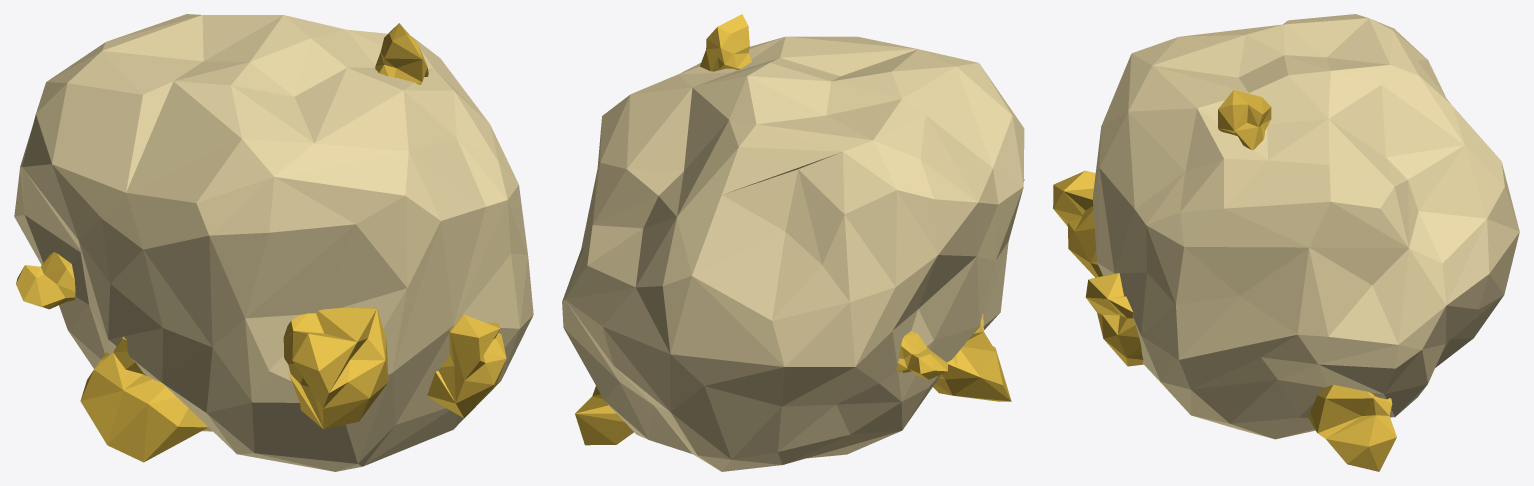
Rendered from MetalOre (55).fbx.
3 views of the same model, side by side, from view 1: azimuth 30°, elevation 25°; view 2: azimuth 150°, elevation 25°; view 3: azimuth 270°, elevation 25° (orthographic). The views are drawn at different scales.
Parts seen in each view (by area): view 1: Asteroid410; view 2: Asteroid410; view 3: Asteroid410.
Boxes of the visible parts, x1=… form: Asteroid410: x1=14, y1=14, x2=533, y2=471; Asteroid410: x1=562, y1=14, x2=1024, y2=471; Asteroid410: x1=1053, y1=14, x2=1519, y2=471.
Bounding box in the file's own units: 248 × 236 × 284.
